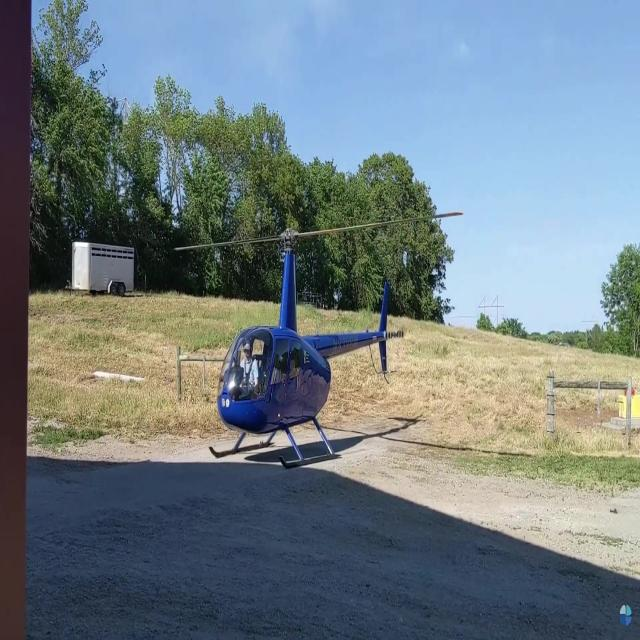CIV_HELO: (208, 227, 396, 470)
